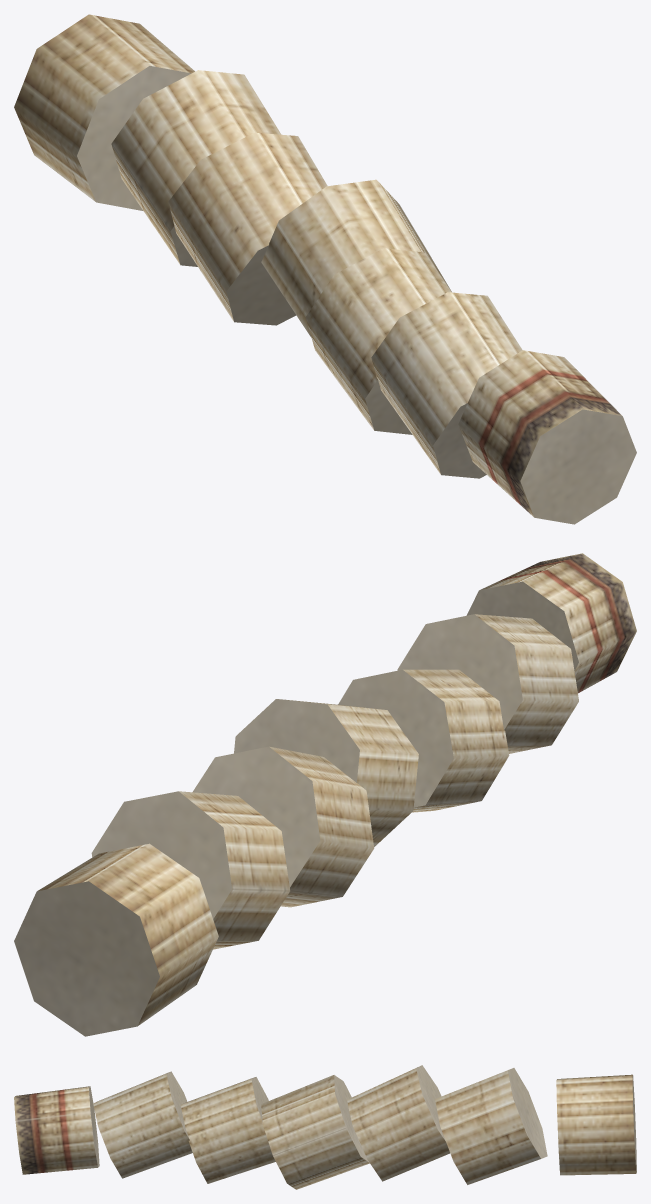
Rendered from column_fallen_b.dae.
The picture shows the model from 3 angles, top to bottom: view 1: azimuth 30°, elevation 25°; view 2: azimuth 150°, elevation 25°; view 3: azimuth 270°, elevation 25°; orthographic projection. The views are drawn at different scales.
Visible parts, largest first — view 1: column_fallen_b; view 2: column_fallen_b; view 3: column_fallen_b.
Boxes of the visible parts, x1,y1,x2,y2 form: column_fallen_b: (14,14,636,524); column_fallen_b: (14,553,636,1036); column_fallen_b: (14,1065,636,1189).
Bounding box in the file's own units: 2.09 × 11.4 × 2.37.
